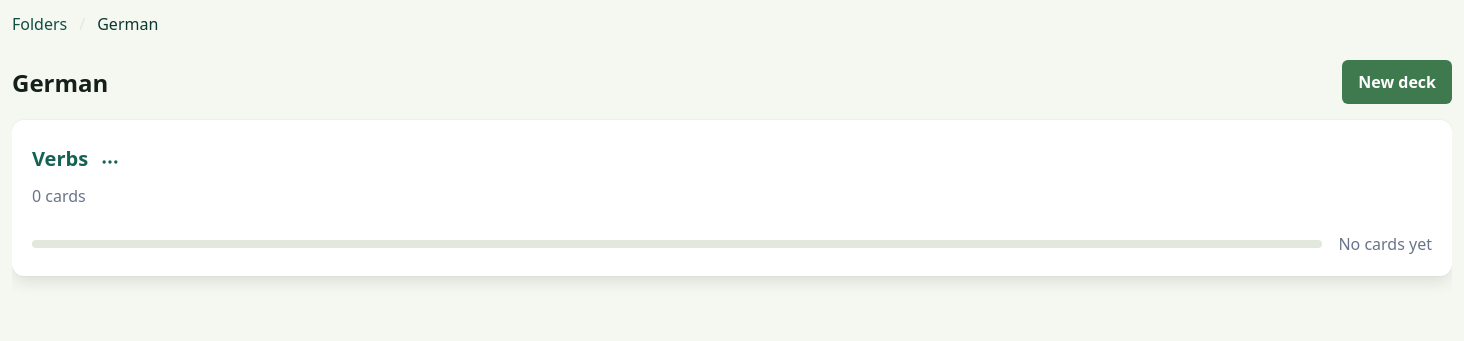
Test: FolderView › offers no Move on a deck when there is no other folder to move it to
Click the button with test id "deck-menu". click: (110, 162)
box: [88,140,132,184]
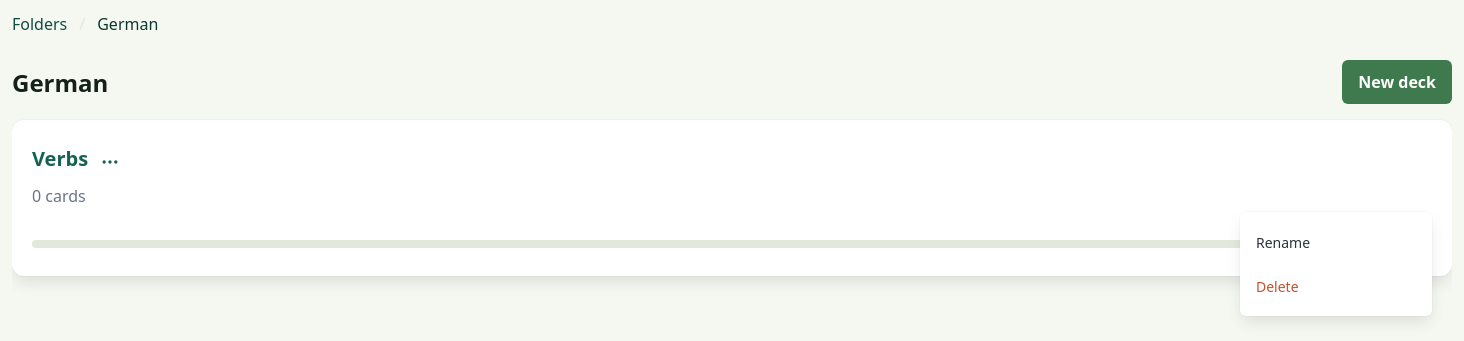
Now the button with test id "deck-rename" is shown, box [1240,220,1432,264]
Now the button with test id "deck-delete" is shown, box [1240,264,1432,308]
